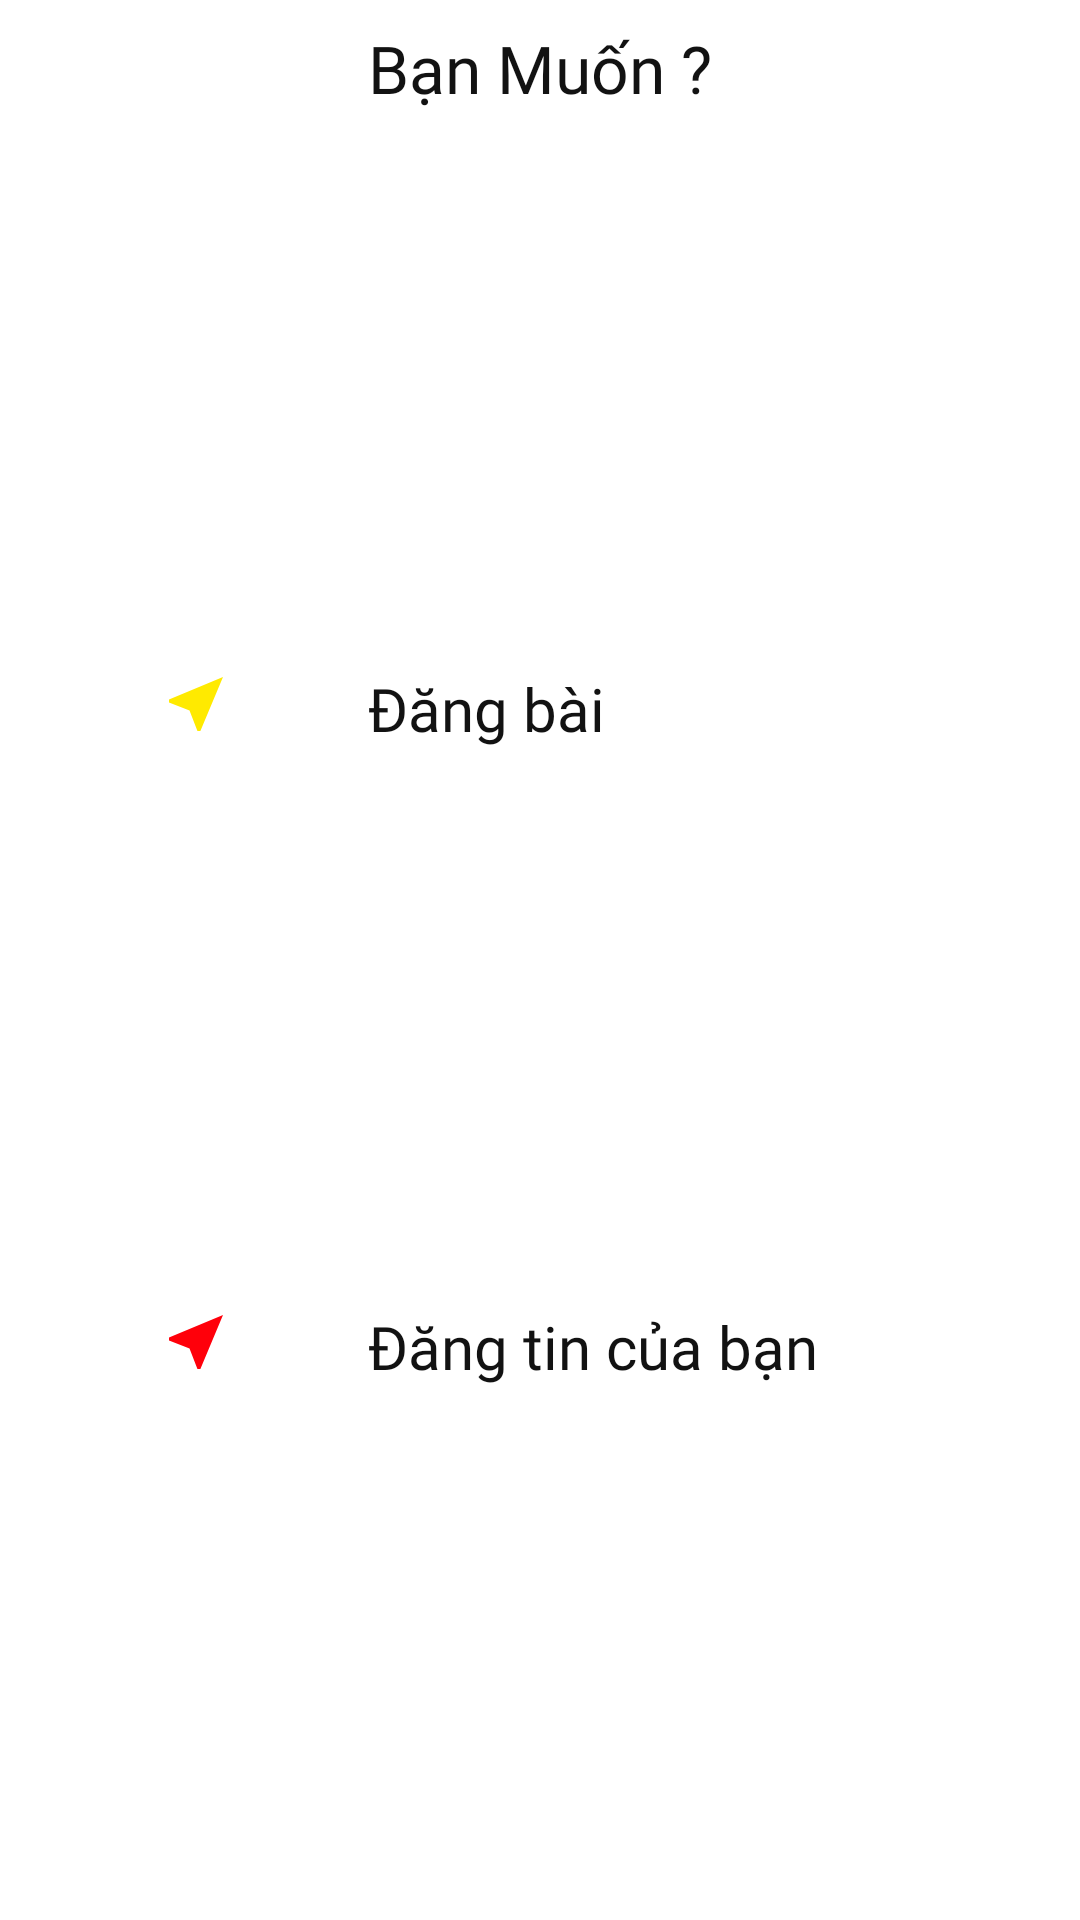

Icon bounding boxes for this 1080px×1920px phone screenshot, format (x1, y1, x2, y2):
near me: (169, 677, 223, 731), (169, 1315, 223, 1369)
